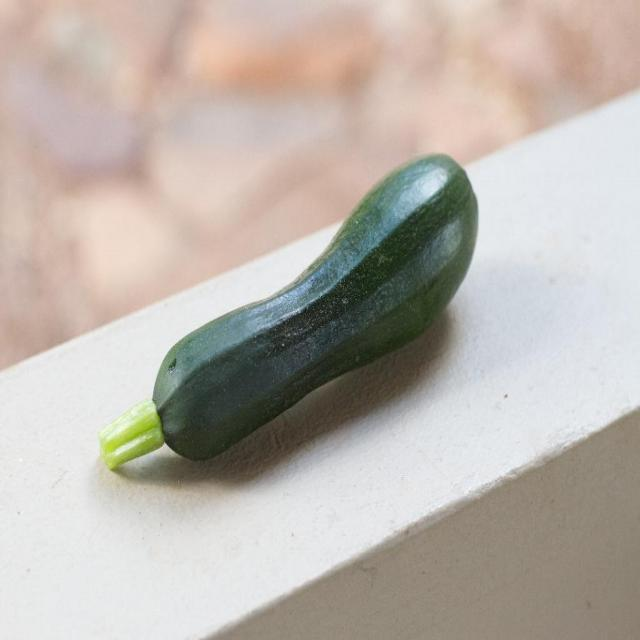Zucchini: (99, 138, 487, 474)
